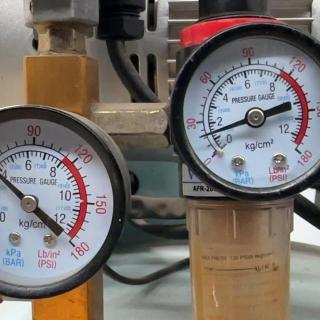gauge: (171, 12, 319, 202), (1, 101, 131, 307), (245, 106, 266, 128), (203, 146, 223, 166), (20, 194, 39, 214), (289, 141, 307, 162), (64, 234, 80, 254), (197, 132, 207, 140)
